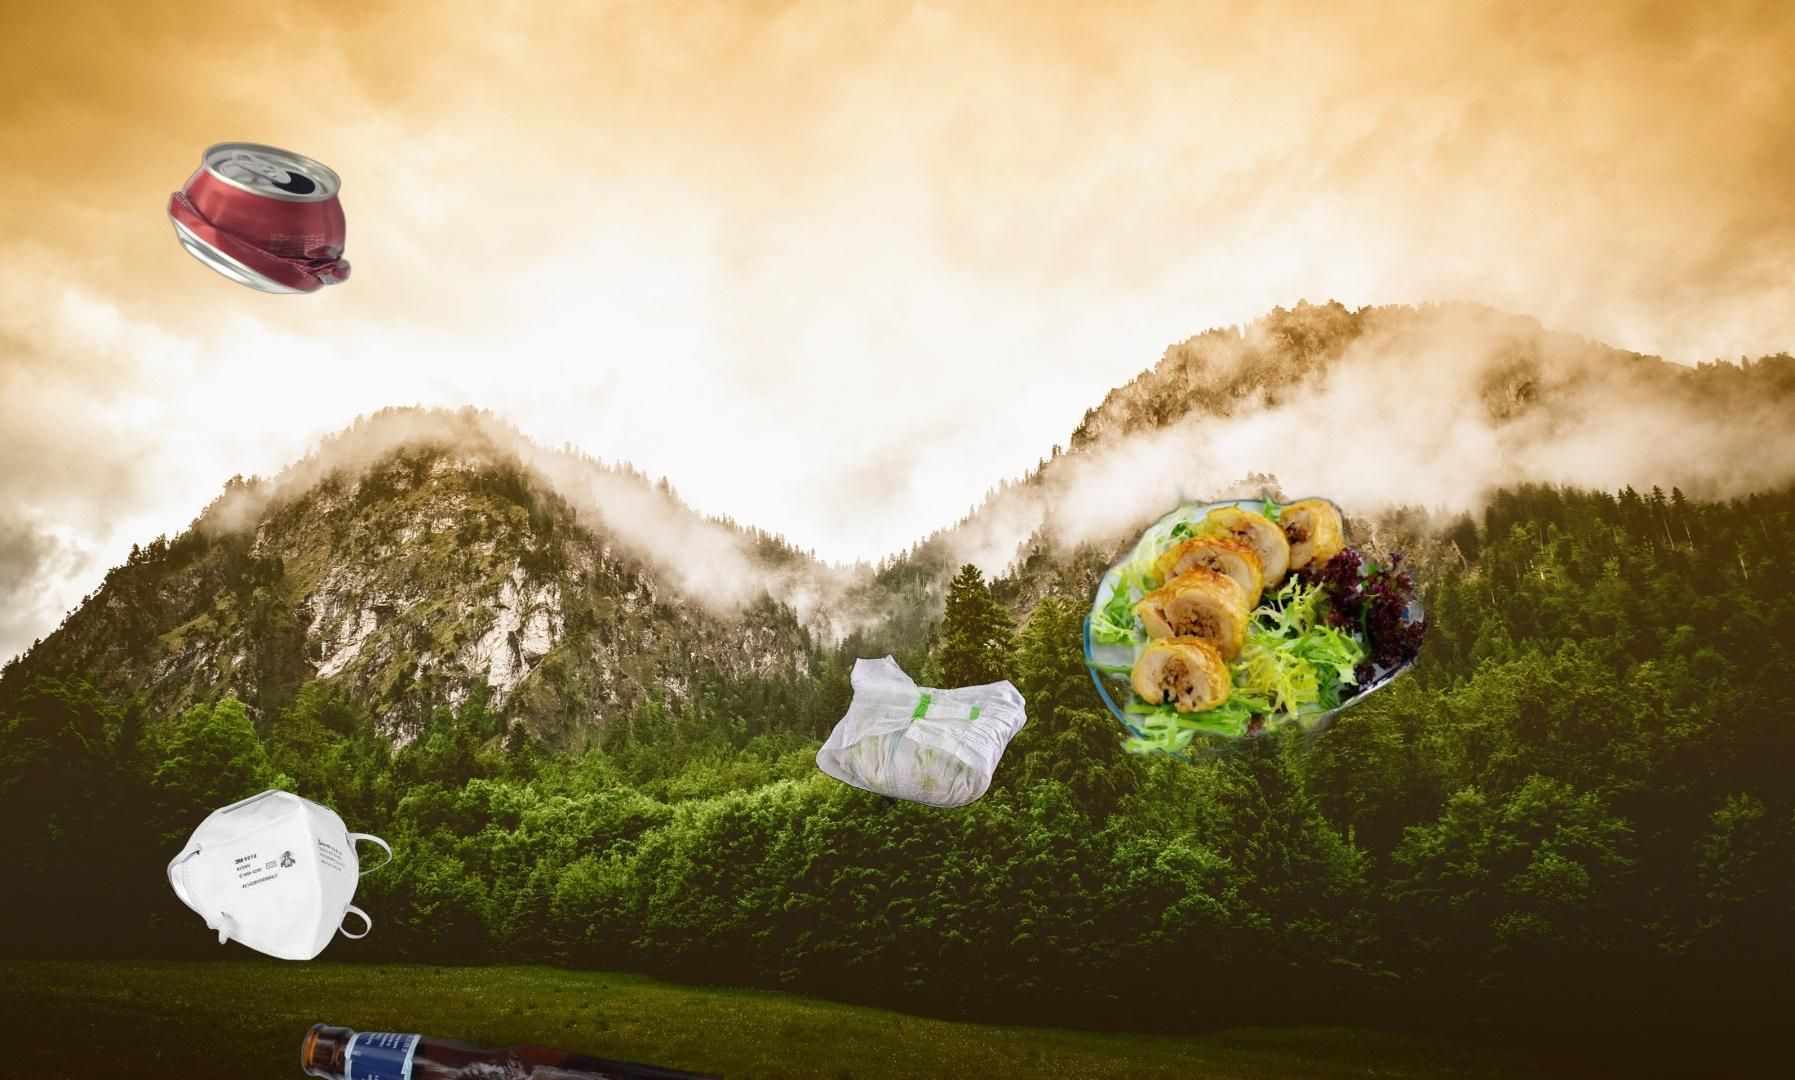biological: (1078, 477, 1442, 847)
glass: (296, 1021, 724, 1080)
metal-cans: (163, 139, 356, 295)
trash: (167, 786, 392, 963), (812, 645, 1031, 820)
